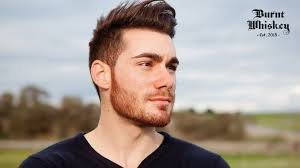b.y: (145, 91, 172, 126)
